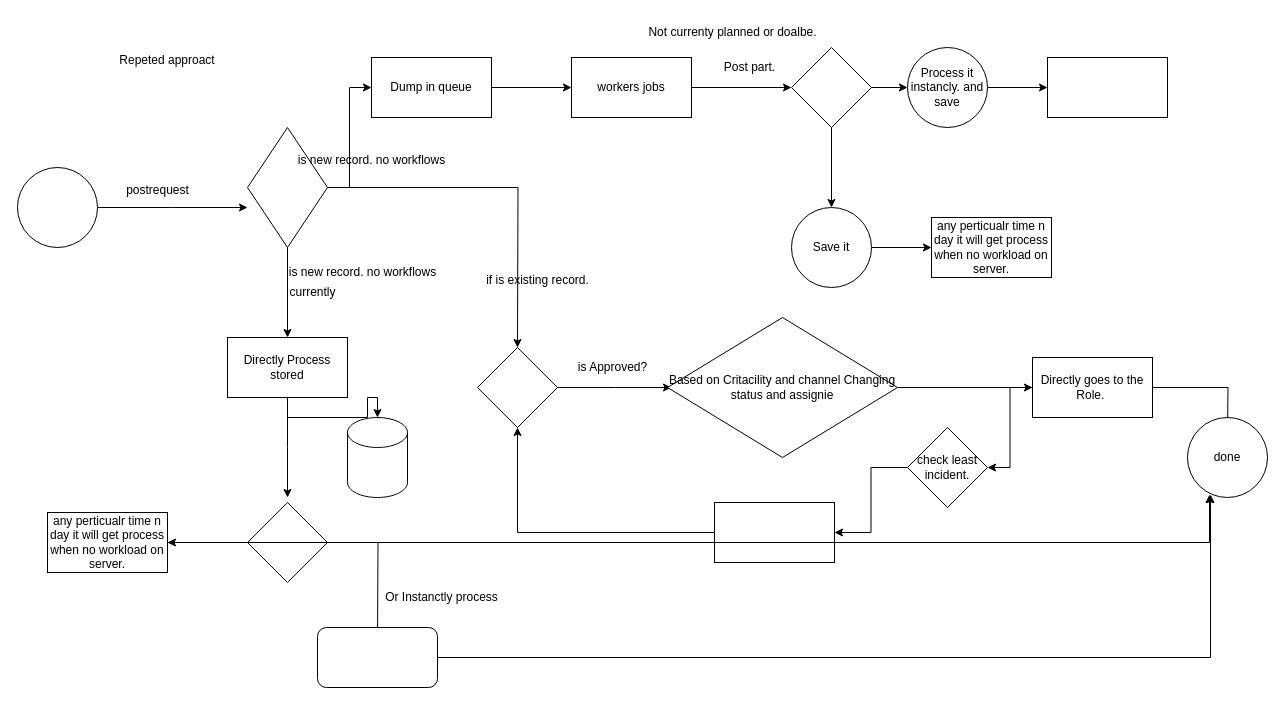
This 1285x705 diagram has some shape labels left out. Here are the shapes that lost their labels. From the top down, the centre of each, then its label:
At [1107,87]: "Check for Role based users and one by one assign a task.".
At [57,207]: "start".
At [517,387]: "workflow trigger".
At [774,532]: "Cycle repeats".
At [377,657]: "Do the checking based on roles and assign.".
